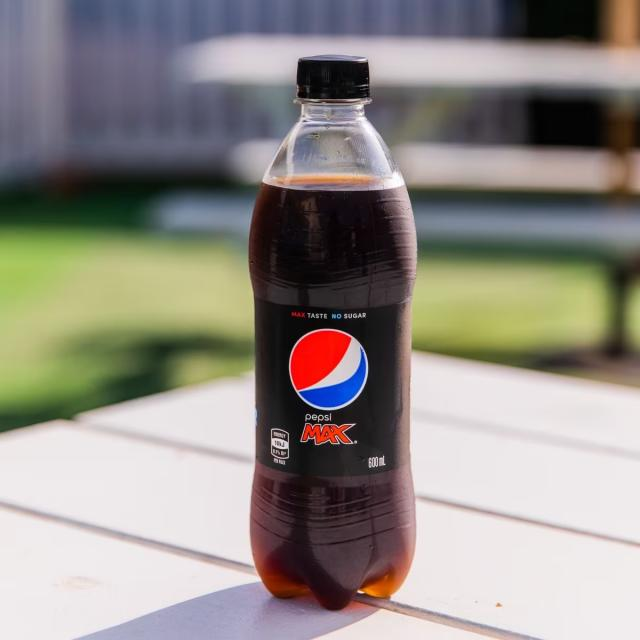Soda: (247, 57, 419, 614)
